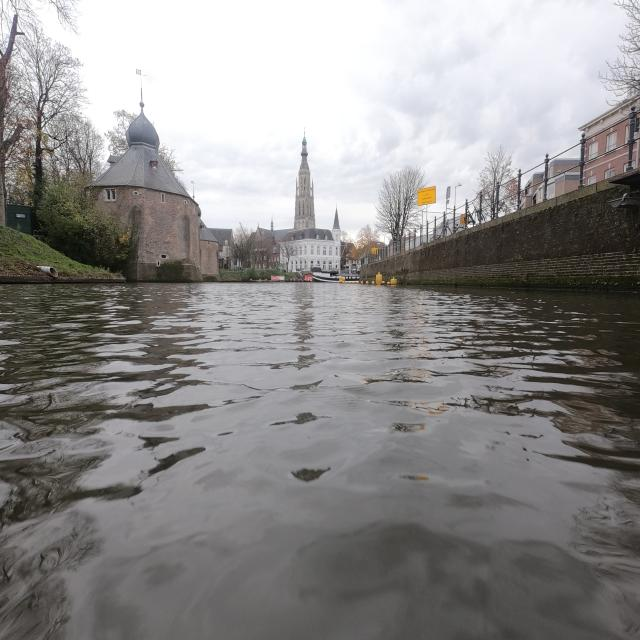grass: (0, 226, 125, 283)
sky: (76, 4, 610, 230)
tree: (36, 178, 132, 271)
wall: (360, 174, 638, 290), (88, 102, 218, 281)
water: (8, 290, 636, 634)
